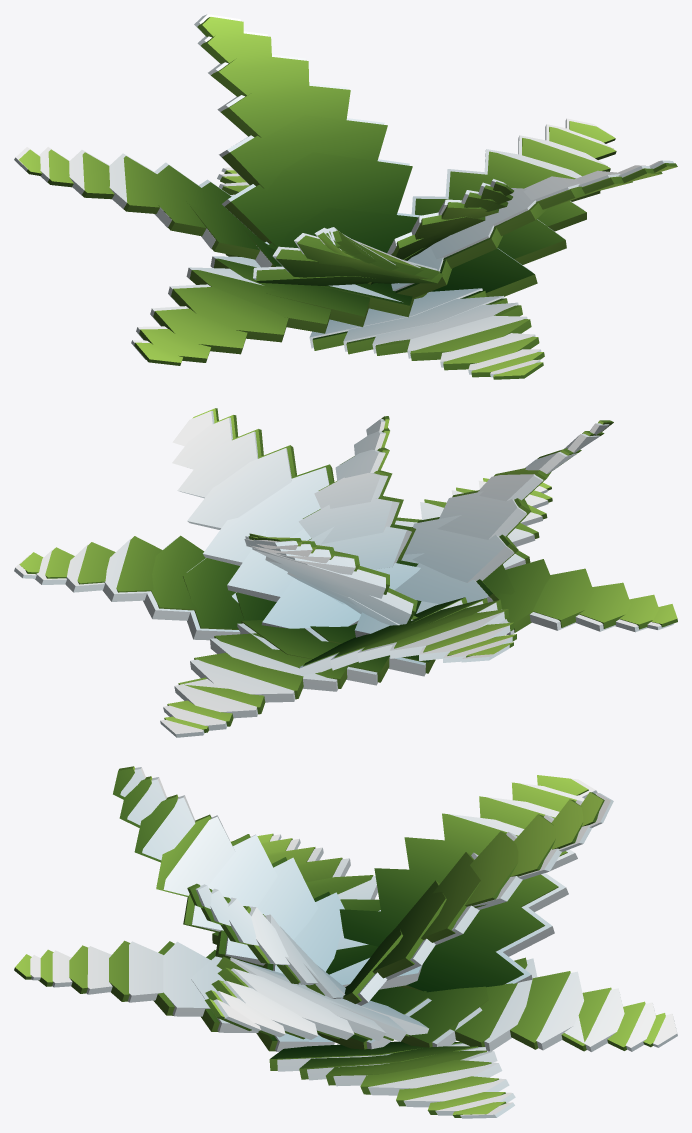
The model's file is fougere1_complet.fbx.
3 renders of one model, top to bottom at view 1: azimuth 30°, elevation 25°; view 2: azimuth 150°, elevation 25°; view 3: azimuth 270°, elevation 25°, orthographic. The views are drawn at different scales.
Visible parts, largest first — view 1: Cylinder.054, Cylinder.032; view 2: Cylinder.032, Cylinder.054; view 3: Cylinder.054, Cylinder.032.
Part boxes in pixels (x1,y1,x2,y2): Cylinder.054: (19,17,677,379); Cylinder.032: (14,14,673,377); Cylinder.032: (14,411,673,737); Cylinder.054: (19,408,677,732); Cylinder.054: (14,766,665,1117); Cylinder.032: (30,767,677,1118).
Size of the model in its own units: 1.73 by 0.6282 by 1.71.
1 material, 1 textured.
